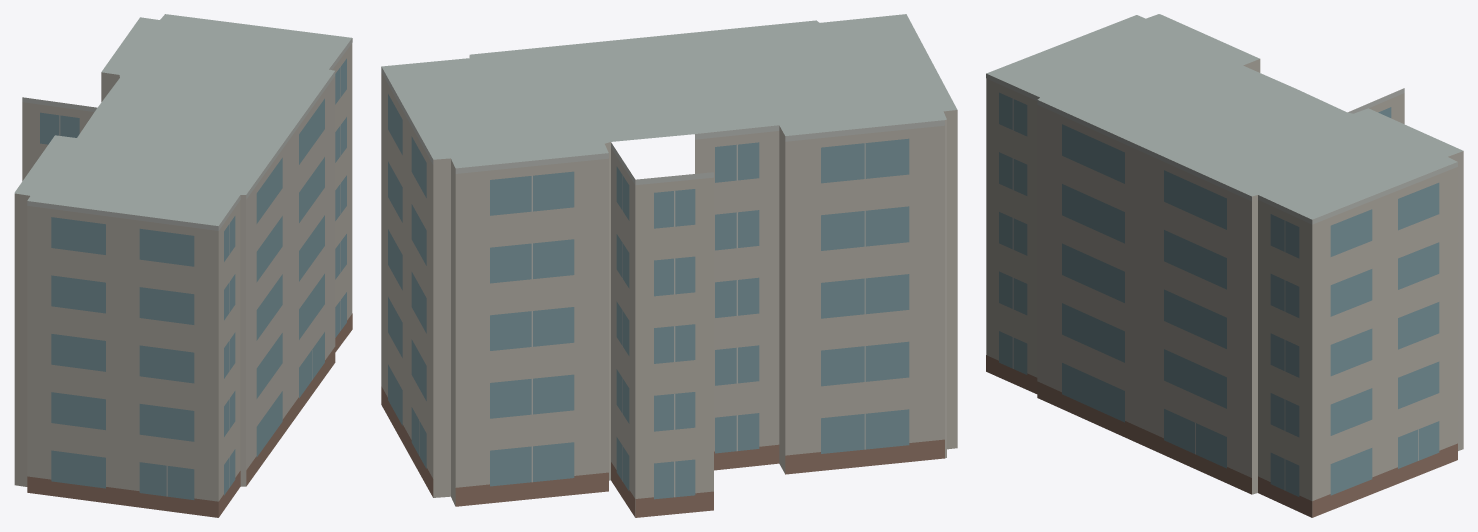
The model's file is survey-upis-32989742.glb.
3 views of the same model, side by side, from view 1: azimuth 30°, elevation 25°; view 2: azimuth 150°, elevation 25°; view 3: azimuth 270°, elevation 25° (orthographic). The views are drawn at different scales.
Parts seen in each view (by area): view 1: survey-upis-32989742.tmp; view 2: survey-upis-32989742.tmp; view 3: survey-upis-32989742.tmp.
Boxes of the visible parts, box(x1,y1,x2,y2) form: survey-upis-32989742.tmp: box(14, 14, 352, 517); survey-upis-32989742.tmp: box(381, 14, 957, 517); survey-upis-32989742.tmp: box(986, 14, 1463, 517).
Bounding box in the file's own units: 21.77 × 14.7 × 21.35.
